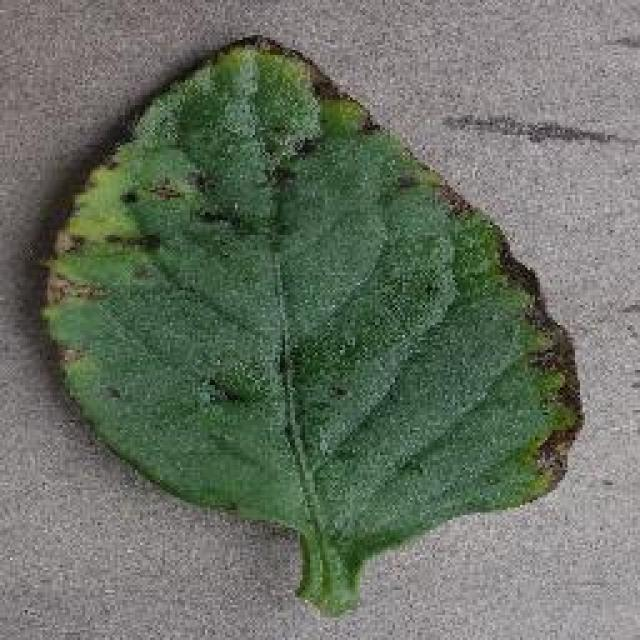Tomato bacterial spot leaf: (37, 31, 596, 554)
